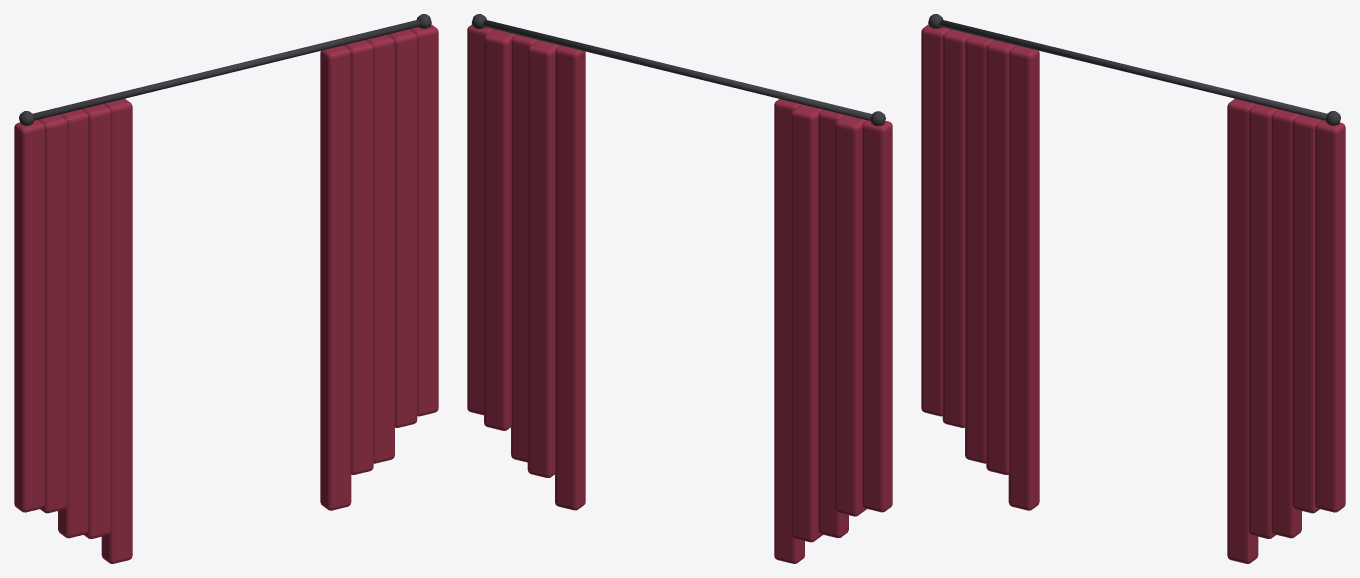
File: drapes_ragged.glb
3 renders of one model, left to right at view 1: azimuth 30°, elevation 25°; view 2: azimuth 150°, elevation 25°; view 3: azimuth 330°, elevation 25°, orthographic.
Visible parts, largest first — view 1: GD_drapes_ragged__m1, GD_drapes_ragged__m0; view 2: GD_drapes_ragged__m1, GD_drapes_ragged__m0; view 3: GD_drapes_ragged__m1, GD_drapes_ragged__m0.
Part boxes in pixels (x1=…): GD_drapes_ragged__m1: x1=14, y1=24, x2=438, y2=563; GD_drapes_ragged__m0: x1=19, y1=14, x2=431, y2=125; GD_drapes_ragged__m1: x1=467, y1=24, x2=892, y2=563; GD_drapes_ragged__m0: x1=471, y1=14, x2=885, y2=125; GD_drapes_ragged__m1: x1=921, y1=24, x2=1345, y2=563; GD_drapes_ragged__m0: x1=928, y1=14, x2=1340, y2=125.
Size of the model in its own units: 2.1 by 2.25 by 0.14.
